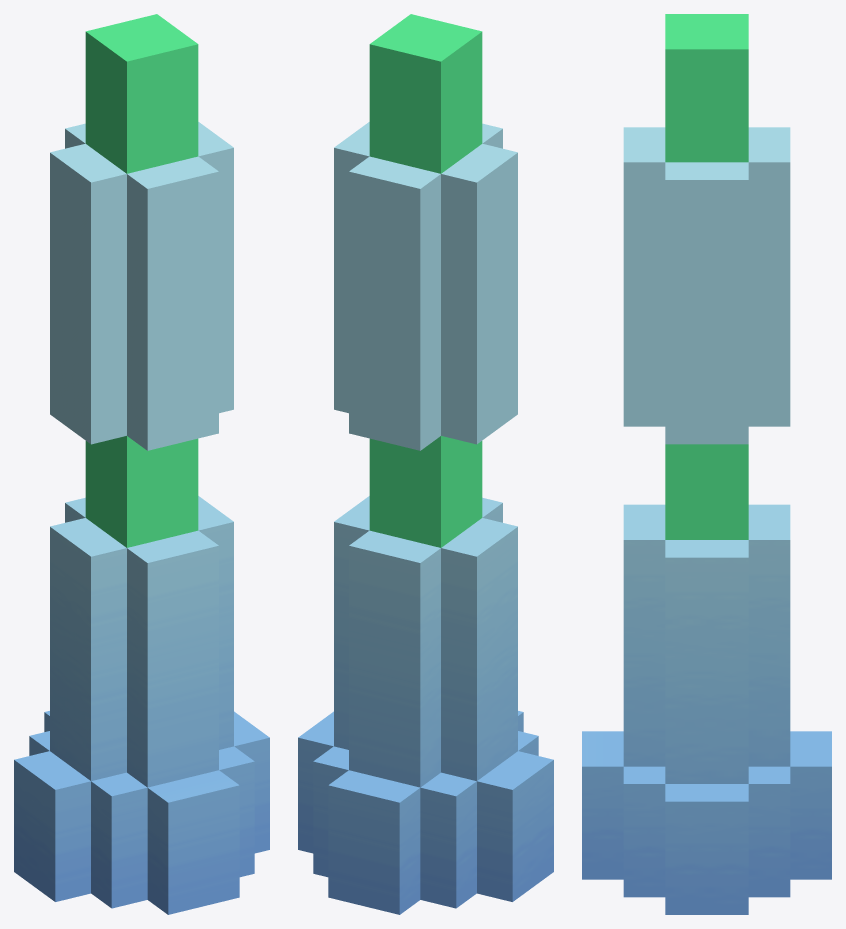
Rendered from radar.glb.
3 views of the same model, side by side, from view 1: azimuth 30°, elevation 25°; view 2: azimuth 150°, elevation 25°; view 3: azimuth 270°, elevation 25° (orthographic).
Parts seen in each view (by area): view 1: radar; view 2: radar; view 3: radar.
Part boxes in pixels (bbox=[...]): radar: bbox=[14, 14, 269, 914]; radar: bbox=[298, 14, 553, 914]; radar: bbox=[582, 14, 831, 914].
Bounding box in the file's own units: 2 × 7.33 × 2.
Materials: 1 (1 with a texture image).
